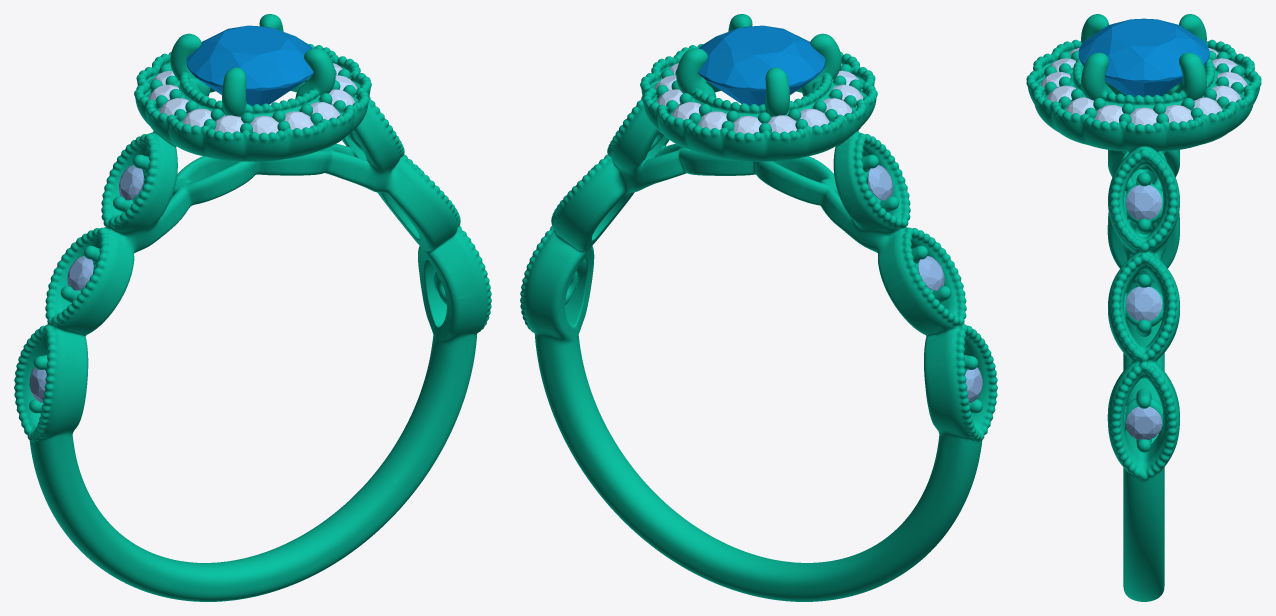
The picture shows the model from 3 angles, left to right: view 1: azimuth 30°, elevation 25°; view 2: azimuth 150°, elevation 25°; view 3: azimuth 270°, elevation 25°; orthographic projection.
Visible parts, largest first — view 1: Infinity Shank Halo Engagement Ring.3dm, Diamond_Round (×3); view 2: Infinity Shank Halo Engagement Ring.3dm, Diamond_Round (×3); view 3: Infinity Shank Halo Engagement Ring.3dm, Diamond_Round (×9).
Boxes of the visible parts, x1,y1,x2,y2 form: Infinity Shank Halo Engagement Ring.3dm: [14, 14, 491, 601]; Diamond_Round (×3): [67, 25, 313, 290]; Infinity Shank Halo Engagement Ring.3dm: [520, 14, 997, 601]; Diamond_Round (×3): [698, 25, 944, 290]; Infinity Shank Halo Engagement Ring.3dm: [1026, 14, 1261, 601]; Diamond_Round (×9): [1066, 18, 1221, 439].
Size of the model in its own units: 2.49 by 2.92 by 1.14.
